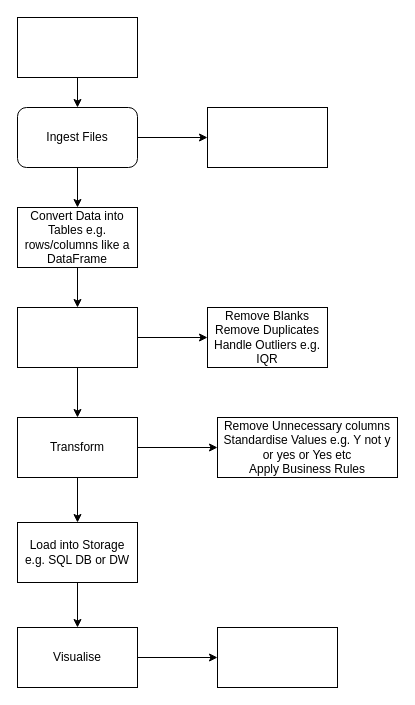
The diagram is 415 pixels wide and 705 high, and some of its shapes have lost their labels. Each missing label, with the box of its shape:
Clean Data: (16, 306, 138, 368)
CSV Files: (16, 16, 138, 78)
Using In house or SAAS Apps or tools like Power BI for custom reports: (216, 626, 338, 688)
Validate File types etc: (206, 106, 328, 168)
